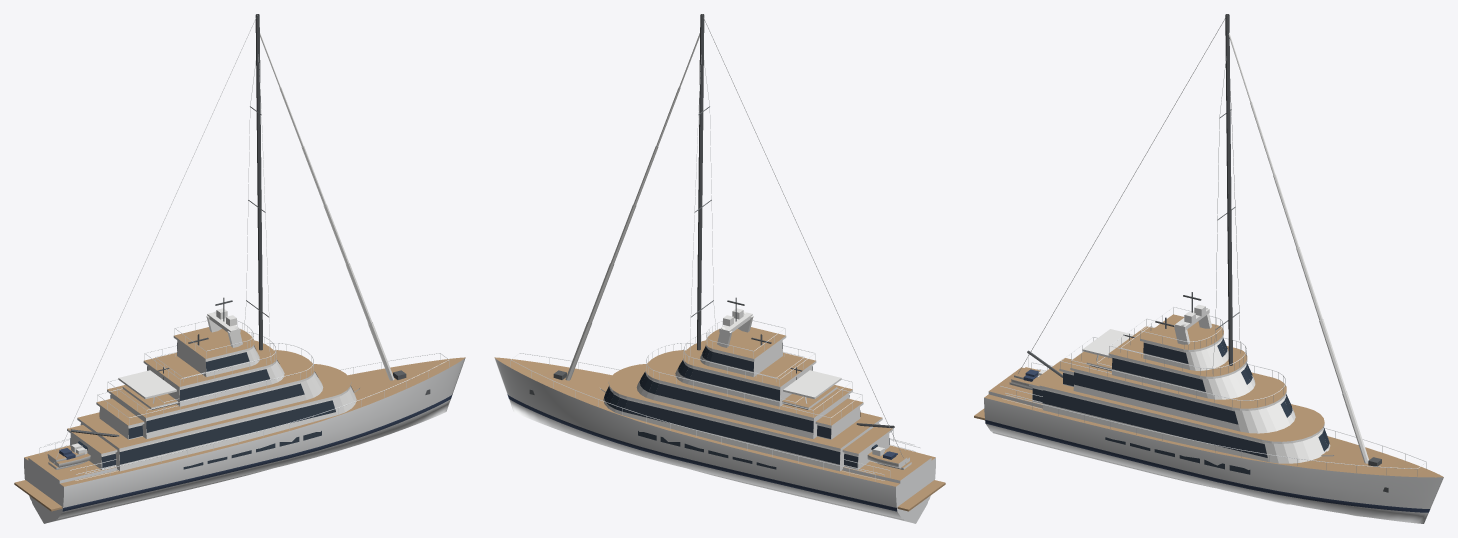
The model's file is yachts.glb.
The picture shows the model from 3 angles, left to right: view 1: azimuth 30°, elevation 25°; view 2: azimuth 150°, elevation 25°; view 3: azimuth 330°, elevation 25°; orthographic projection. The views are drawn at different scales.
Visible parts, largest first — view 1: superyacht_lod0, sail_lod0, motor_lod0, explorer_lod0; view 2: superyacht_lod0, sail_lod0, motor_lod0, explorer_lod0; view 3: superyacht_lod0, sail_lod0, motor_lod0, explorer_lod0.
Boxes of the visible parts, bbox=[...] form: superyacht_lod0: bbox=[14, 297, 465, 519]; sail_lod0: bbox=[17, 14, 394, 523]; motor_lod0: bbox=[28, 367, 359, 514]; explorer_lod0: bbox=[19, 334, 208, 517]; superyacht_lod0: bbox=[494, 297, 945, 519]; sail_lod0: bbox=[565, 14, 936, 523]; motor_lod0: bbox=[600, 367, 941, 514]; explorer_lod0: bbox=[751, 334, 941, 517]; superyacht_lod0: bbox=[974, 292, 1443, 523]; sail_lod0: bbox=[977, 14, 1368, 504]; motor_lod0: bbox=[1005, 329, 1333, 456]; explorer_lod0: bbox=[979, 317, 1174, 413].
Size of what is drawn, in the model's own units: 61.6 by 62.16 by 10.98.
